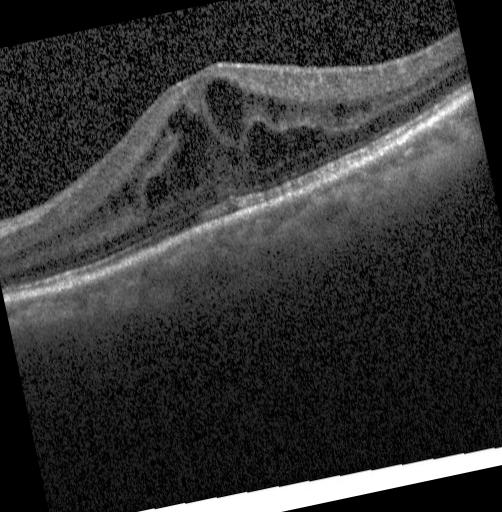intraretinal_cyst: (164, 110, 213, 191), (246, 121, 319, 169), (204, 79, 244, 143), (329, 98, 373, 119), (144, 176, 171, 207), (264, 97, 286, 124), (120, 181, 136, 205), (226, 146, 243, 165), (107, 195, 119, 214), (145, 150, 156, 161), (247, 93, 254, 103), (153, 139, 160, 147), (160, 128, 166, 137), (97, 205, 102, 212), (134, 178, 137, 182)
